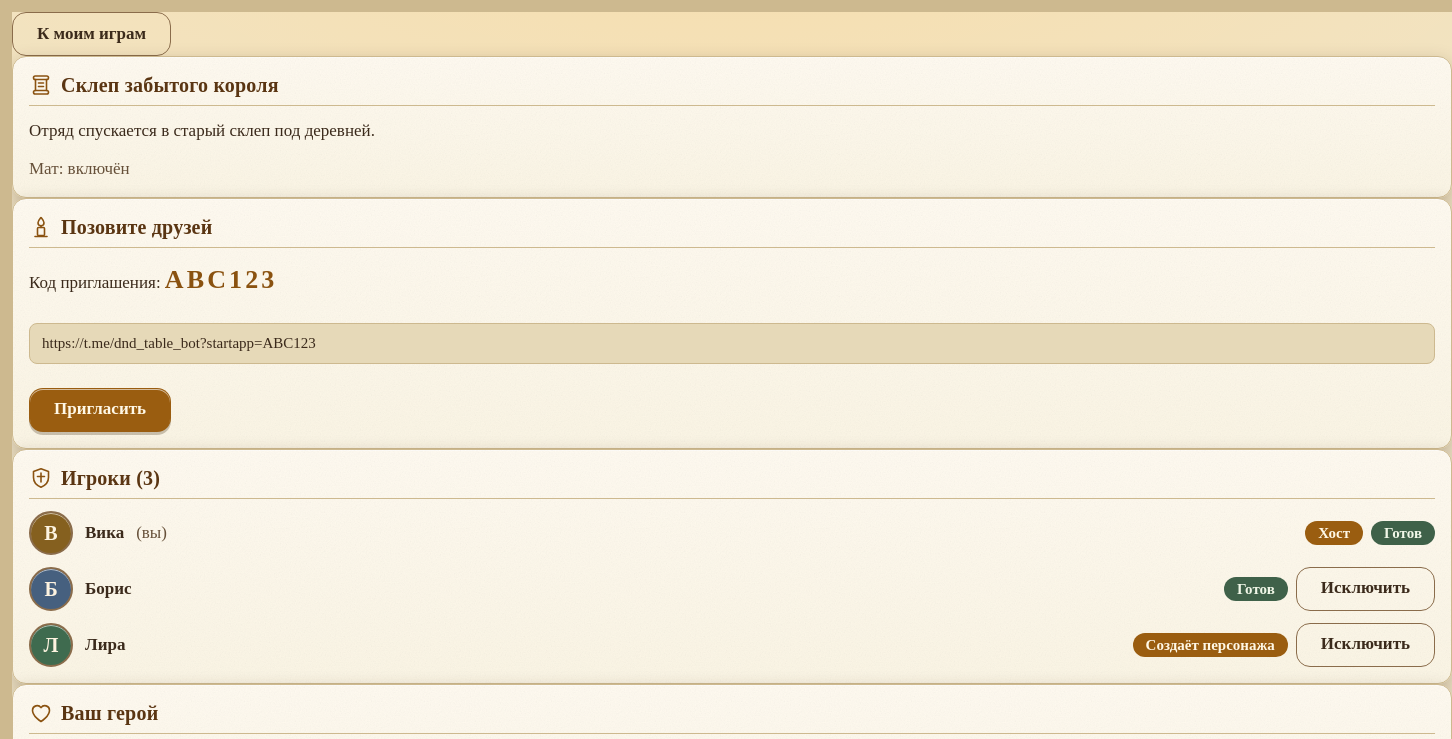
Test: «Пригласить» — только хост › буфер обмена отказал: подсказка выделить ссылку вручную
expect the text "https://t.me/dnd_table_bot?startapp=ABC123" is shown: met, box [29,323,1435,364]
Click the button "Пригласить" at [100, 410], box [29,388,171,432]
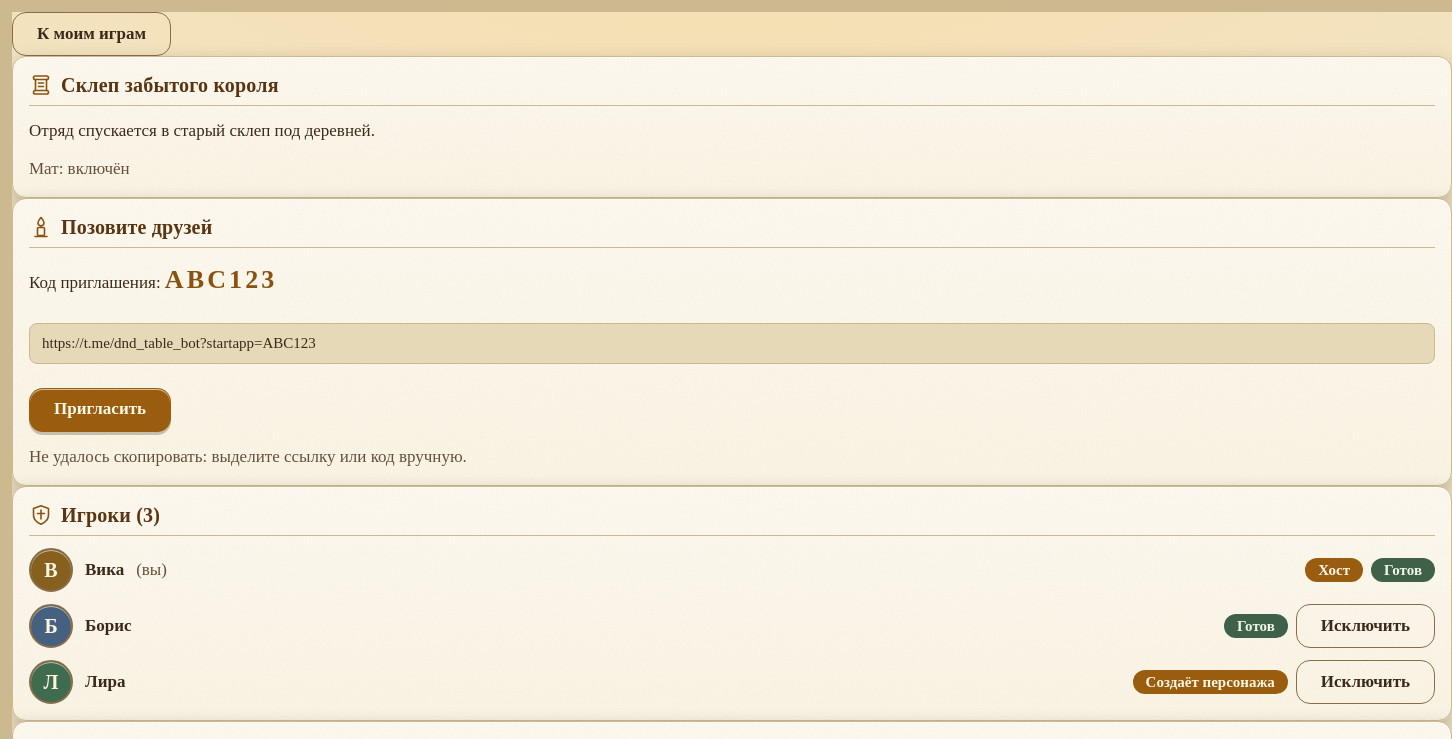
expect the text "https://t.me/dnd_table_bot?startapp=ABC123" is shown: met, box [29,323,1435,364]
expect the message shows "Не удалось скопировать": met, box [29,446,467,466]
